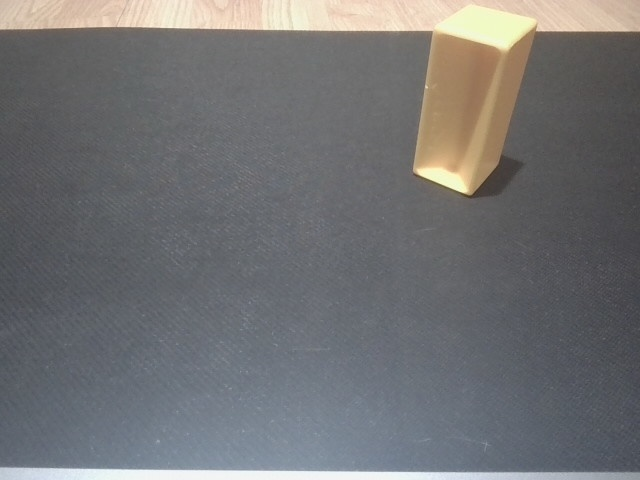YellowSample: (407, 4, 541, 199)
